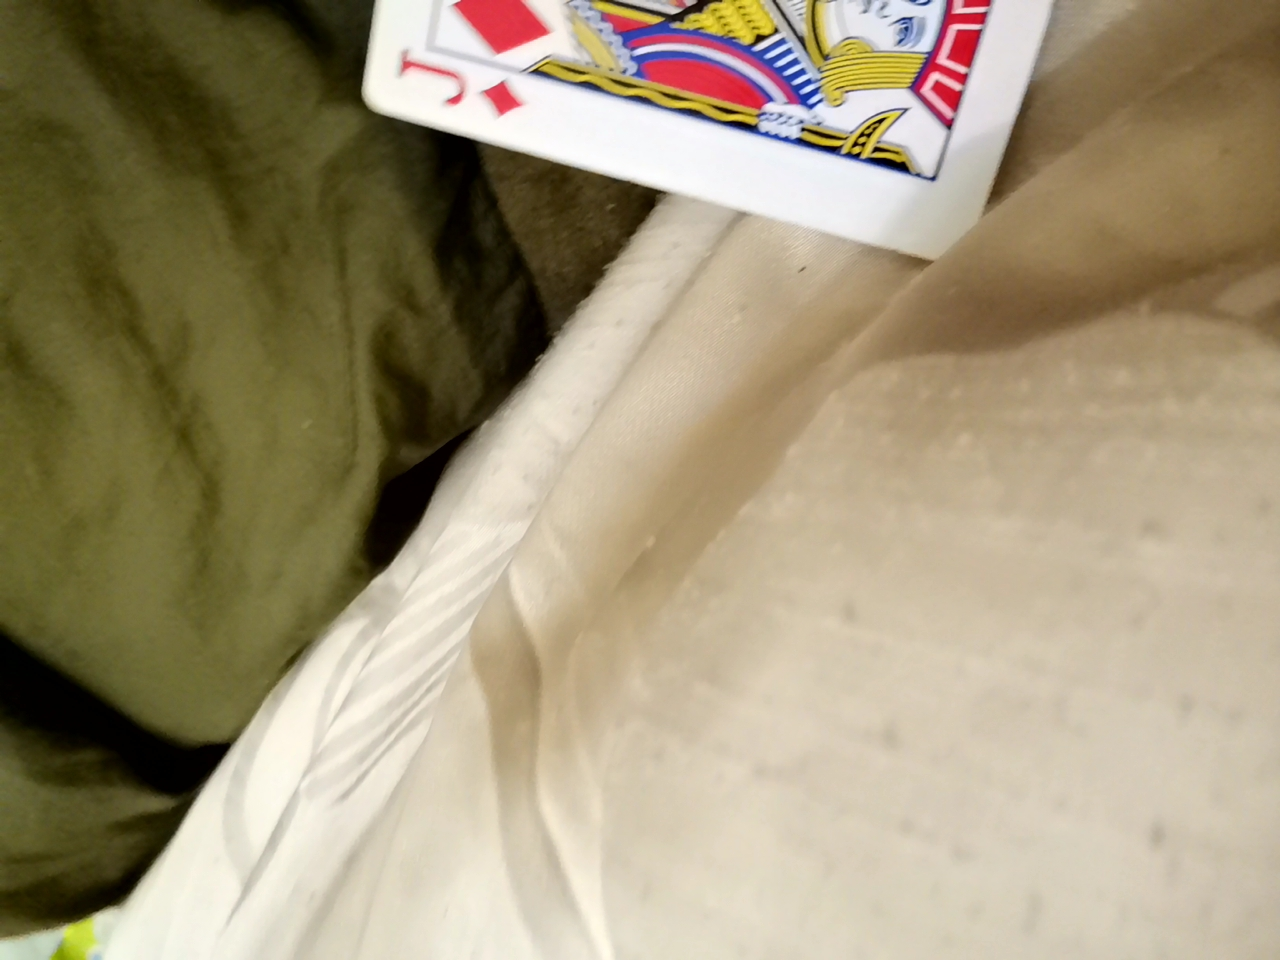fk j: (326, 4, 1067, 279)
